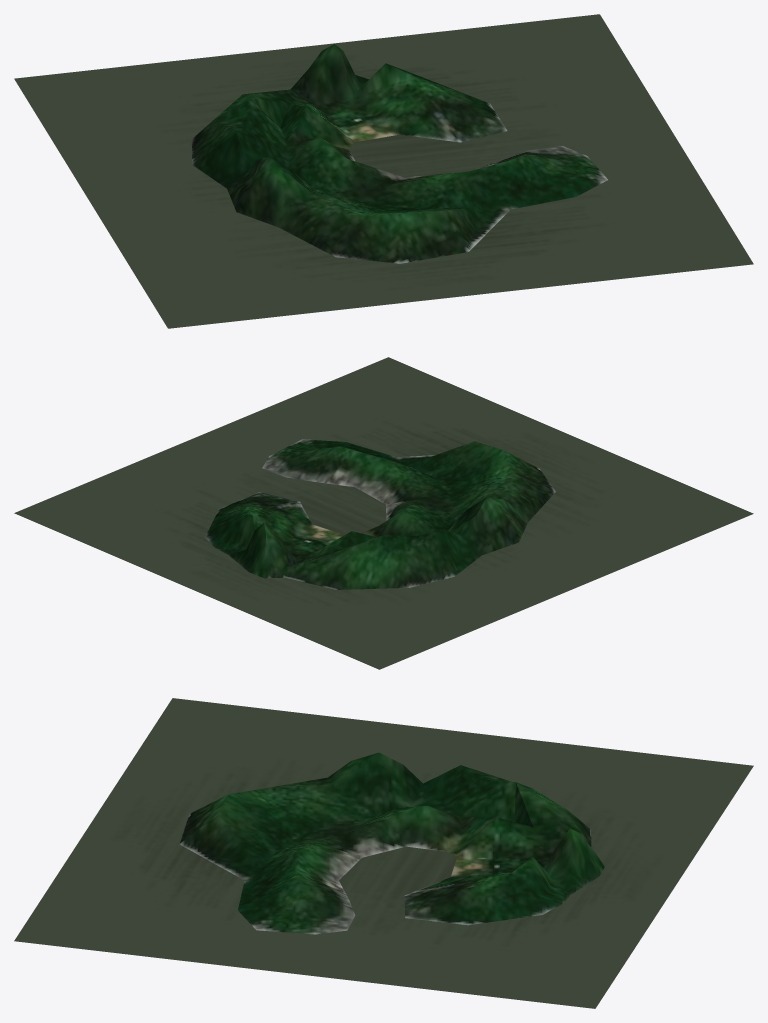
File: pir_m_are_isl_antigua_worldmap.fbx
3 views of the same model, one above another, from view 1: azimuth 30°, elevation 25°; view 2: azimuth 150°, elevation 25°; view 3: azimuth 270°, elevation 25° (orthographic). The views are drawn at different scales.
Parts seen in each view (by area): view 1: hatchmark, top_mesh; view 2: hatchmark, top_mesh; view 3: hatchmark, top_mesh.
Boxes of the visible parts, <box> form: hatchmark: <box>14,14,753,328</box>; top_mesh: <box>191,44,607,263</box>; hatchmark: <box>14,357,753,669</box>; top_mesh: <box>205,439,555,589</box>; hatchmark: <box>14,698,753,1008</box>; top_mesh: <box>179,752,604,934</box>.
Size of the model in its own units: 93.37 by 6.56 by 93.92.
2 materials, 2 textured.
